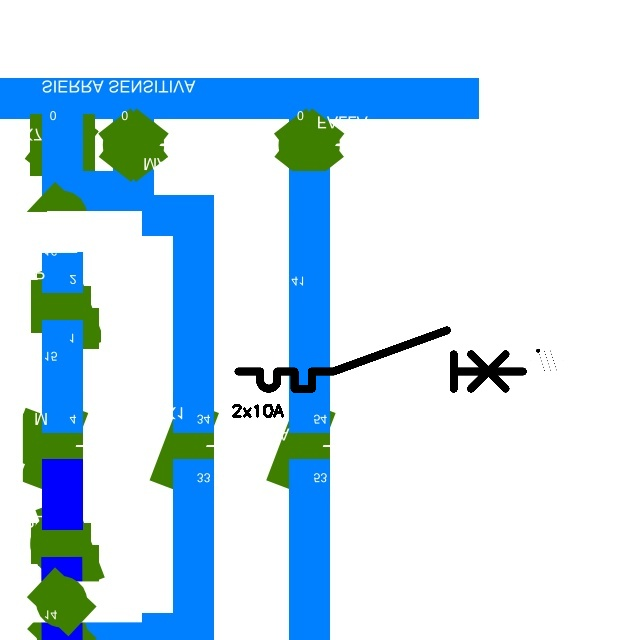interruptor_termomagnetico: (231, 323, 530, 396)
